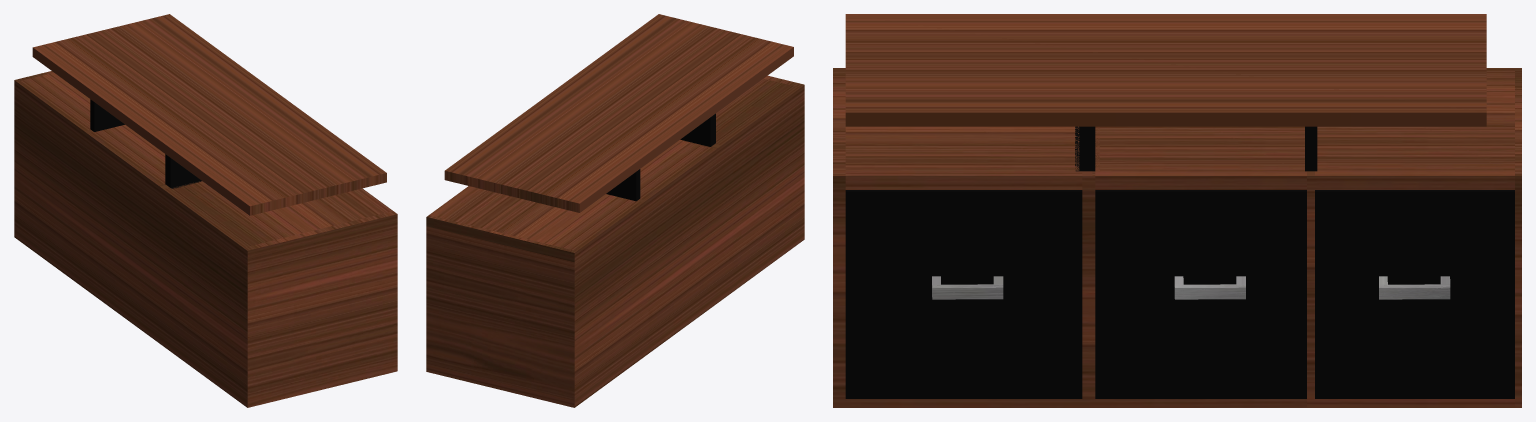
File: mueble2.glb
3 renders of one model, left to right at view 1: azimuth 30°, elevation 25°; view 2: azimuth 150°, elevation 25°; view 3: azimuth 270°, elevation 25°, orthographic. The views are drawn at different scales.
Visible parts, largest first — view 1: Cubo; view 2: Cubo; view 3: Cubo, Cubo.001, Cubo.002, Cubo.003.
Boxes of the visible parts, box(x1,y1,x2,y2) form: Cubo: box(14, 14, 397, 407); Cubo: box(426, 14, 804, 407); Cubo: box(833, 14, 1521, 407); Cubo.001: box(932, 276, 1003, 299); Cubo.002: box(1174, 276, 1245, 299); Cubo.003: box(1379, 276, 1450, 299).
Size of the model in its own units: 2.25 by 2.51 by 5.38.
Materials: 4 (4 with a texture image).
